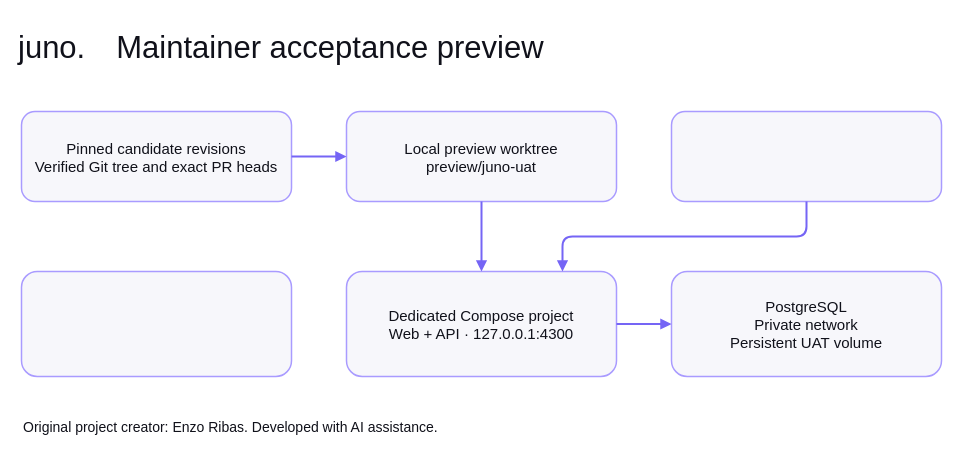
Image size: 958x457. Some labels were removed from this diagram. The centre of each missing label's shape, as x and y in pixels:
Agent worktrees Separate branches and environments: the point at 156,323
Maintainer browser 127.0.0.1:3300: the point at 806,156
